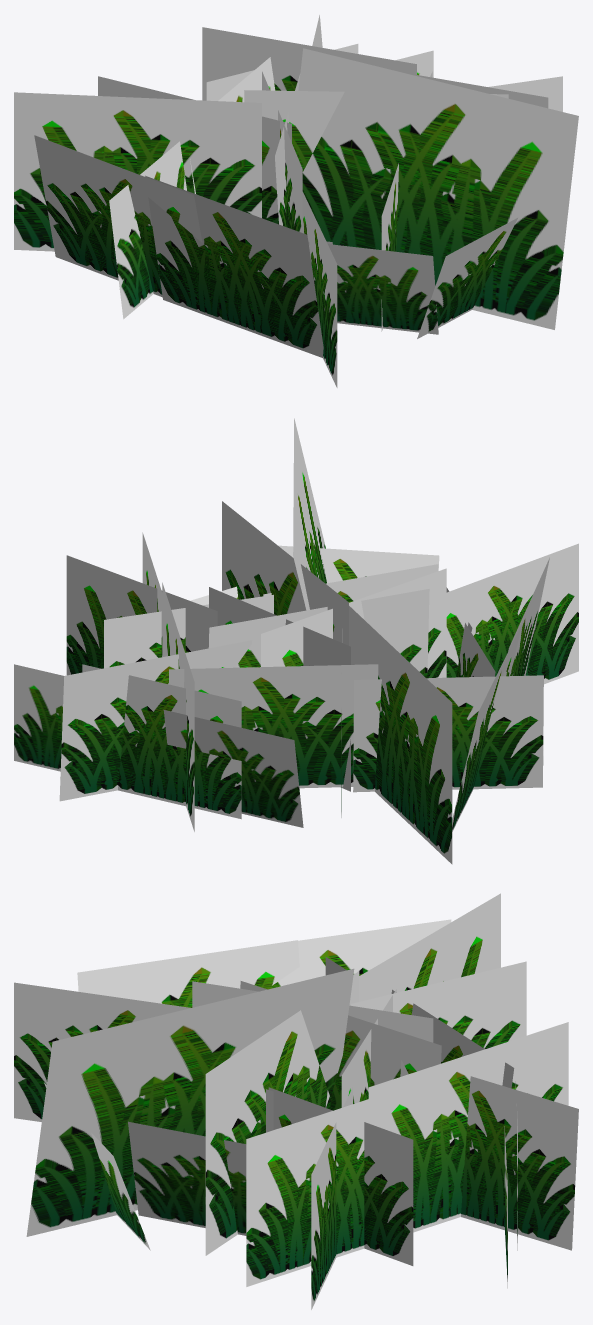
Rendered from high_grass_08.gltf.
The picture shows the model from 3 angles, top to bottom: view 1: azimuth 30°, elevation 25°; view 2: azimuth 150°, elevation 25°; view 3: azimuth 270°, elevation 25°; orthographic projection. The views are drawn at different scales.
Parts seen in each view (by area): view 1: default; view 2: default; view 3: default.
Part boxes in pixels (bbox=[...]): default: bbox=[14, 15, 578, 387]; default: bbox=[14, 418, 578, 864]; default: bbox=[14, 893, 578, 1309].
Size of the model in its own units: 1.91 by 0.7728 by 1.84.
1 material, 1 textured.
